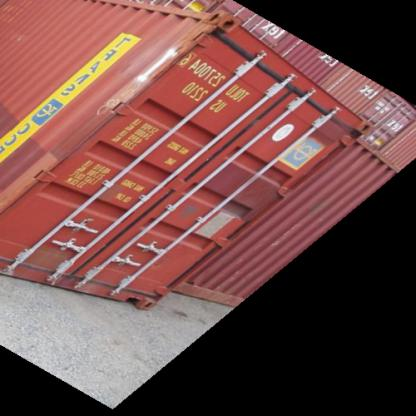Damage: (115, 23, 202, 110), (33, 242, 73, 292), (62, 264, 113, 292)
